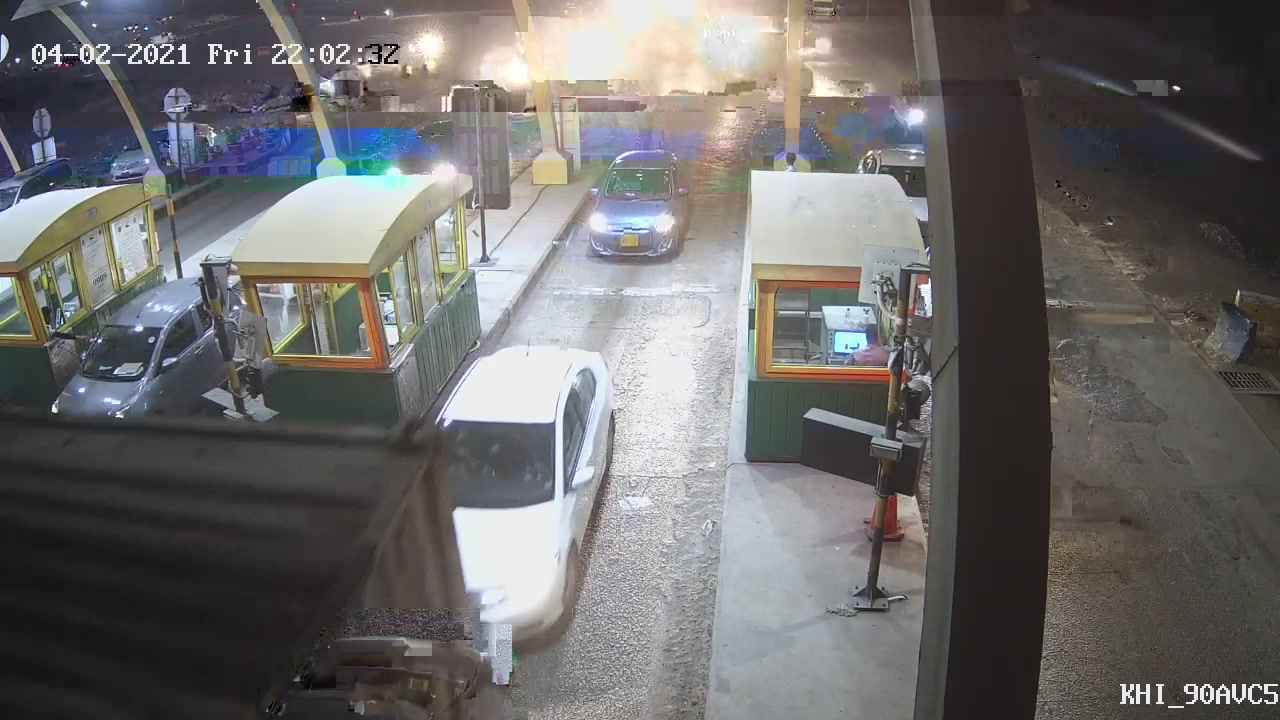F1: (585, 150, 704, 290)
